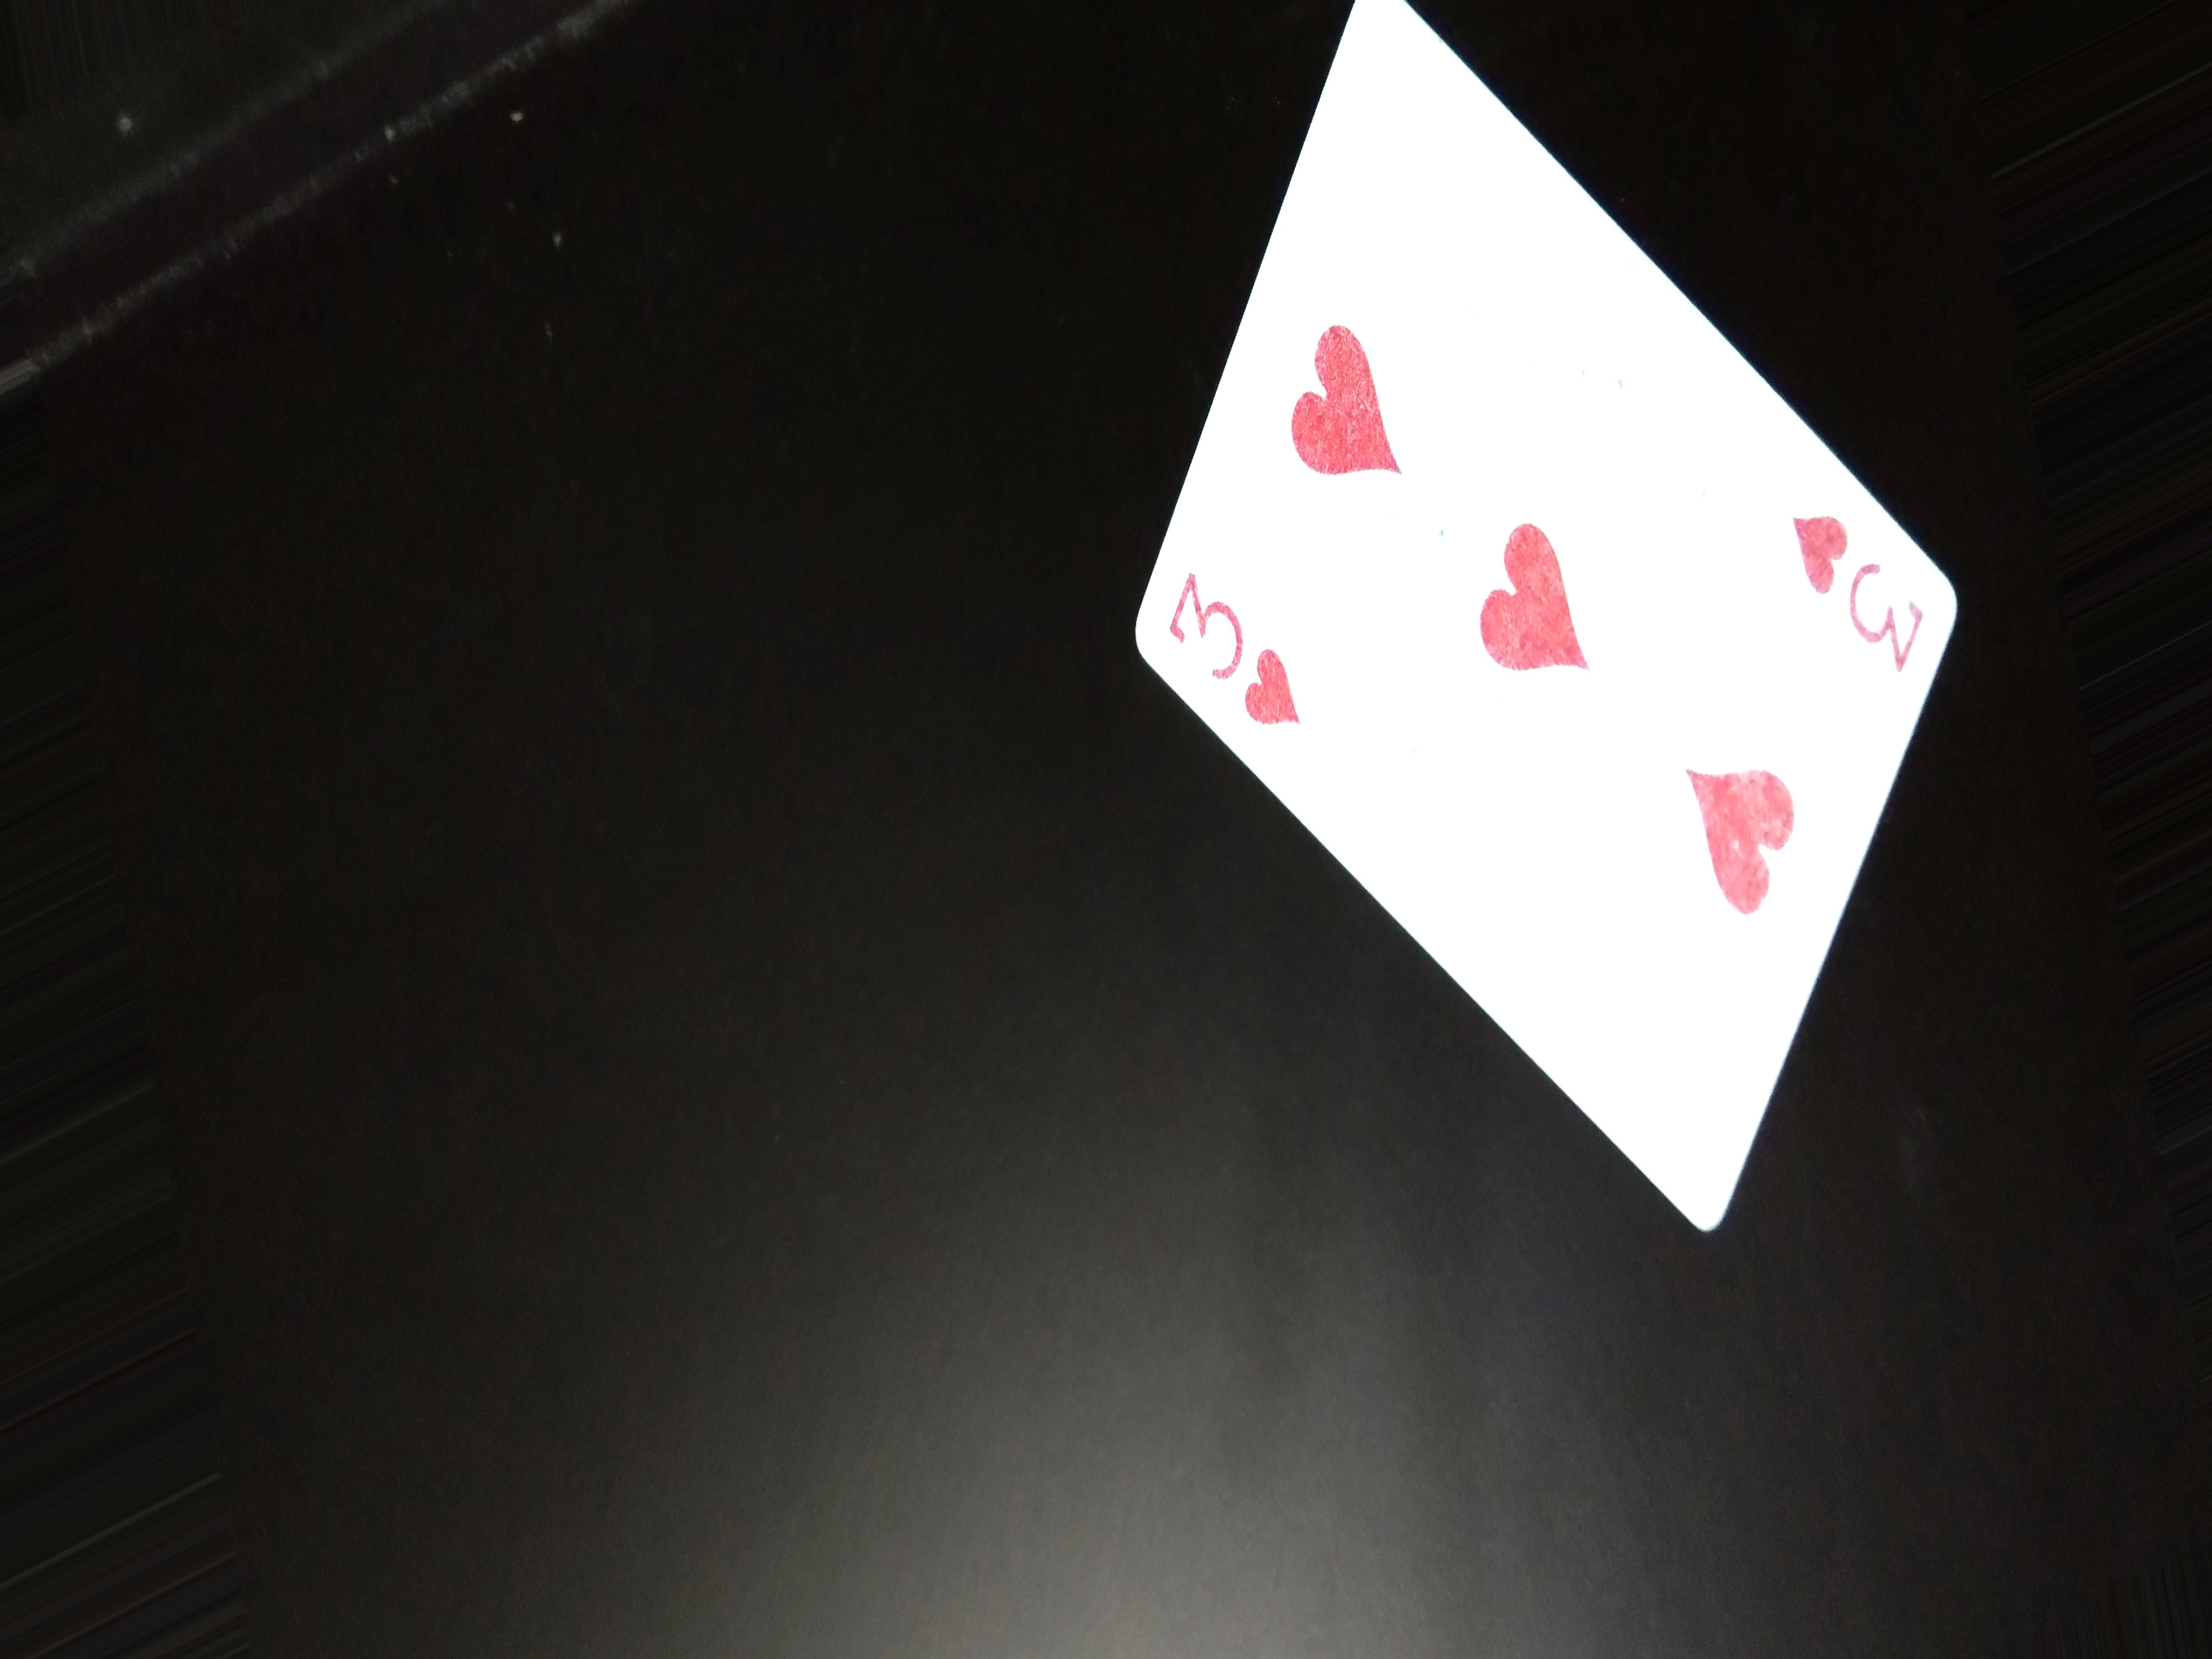3H: (1150, 563, 1329, 765)
